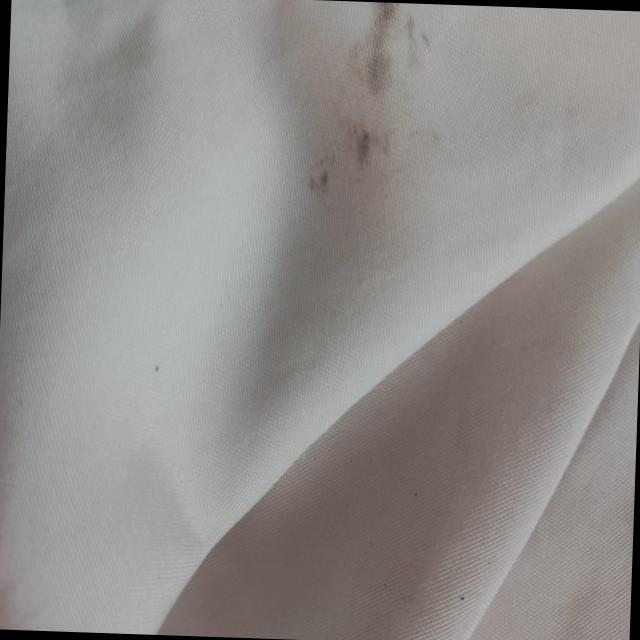stain: (290, 0, 449, 214)
